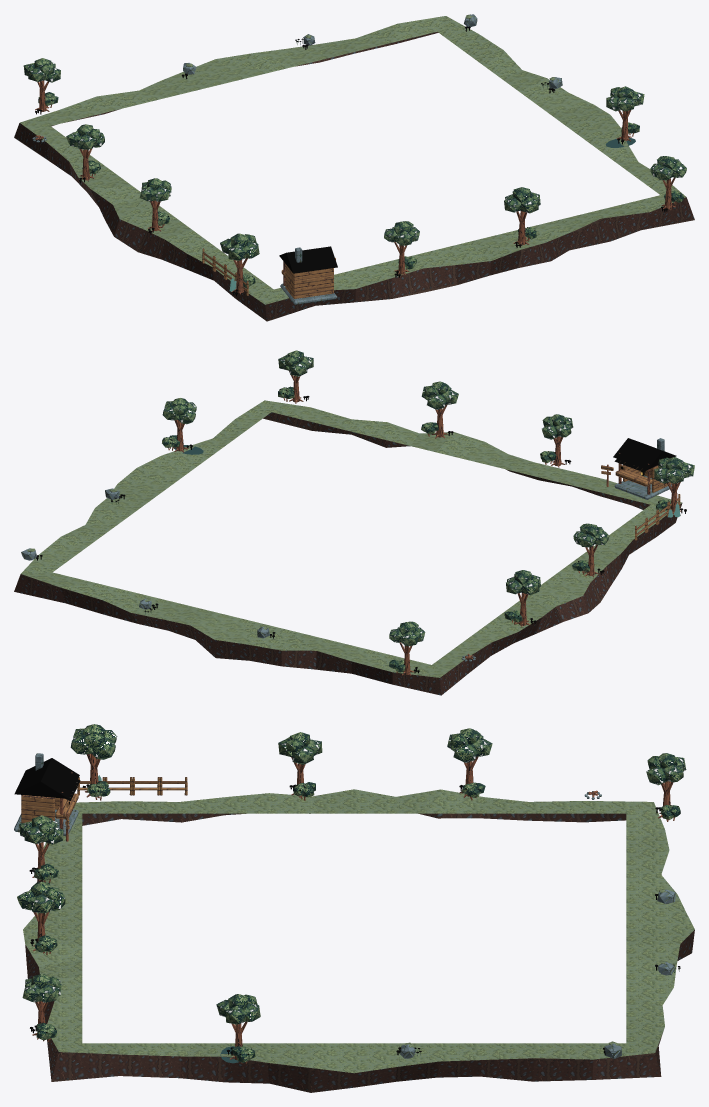
Rendered from entorno_18.fbx.
The picture shows the model from 3 angles, top to bottom: view 1: azimuth 30°, elevation 25°; view 2: azimuth 150°, elevation 25°; view 3: azimuth 270°, elevation 25°; orthographic projection. The views are drawn at different scales.
Visible parts, largest first — view 1: bosque_entorno_18; view 2: bosque_entorno_18; view 3: bosque_entorno_18.
Part boxes in pixels (left/top/right/bottom): bosque_entorno_18: left=14, top=14, right=694, bottom=321; bosque_entorno_18: left=14, top=350, right=694, bottom=695; bosque_entorno_18: left=14, top=724, right=694, bottom=1092.
Bounding box in the file's own units: 2262 × 363 × 2279.
17 materials, 6 textured.
